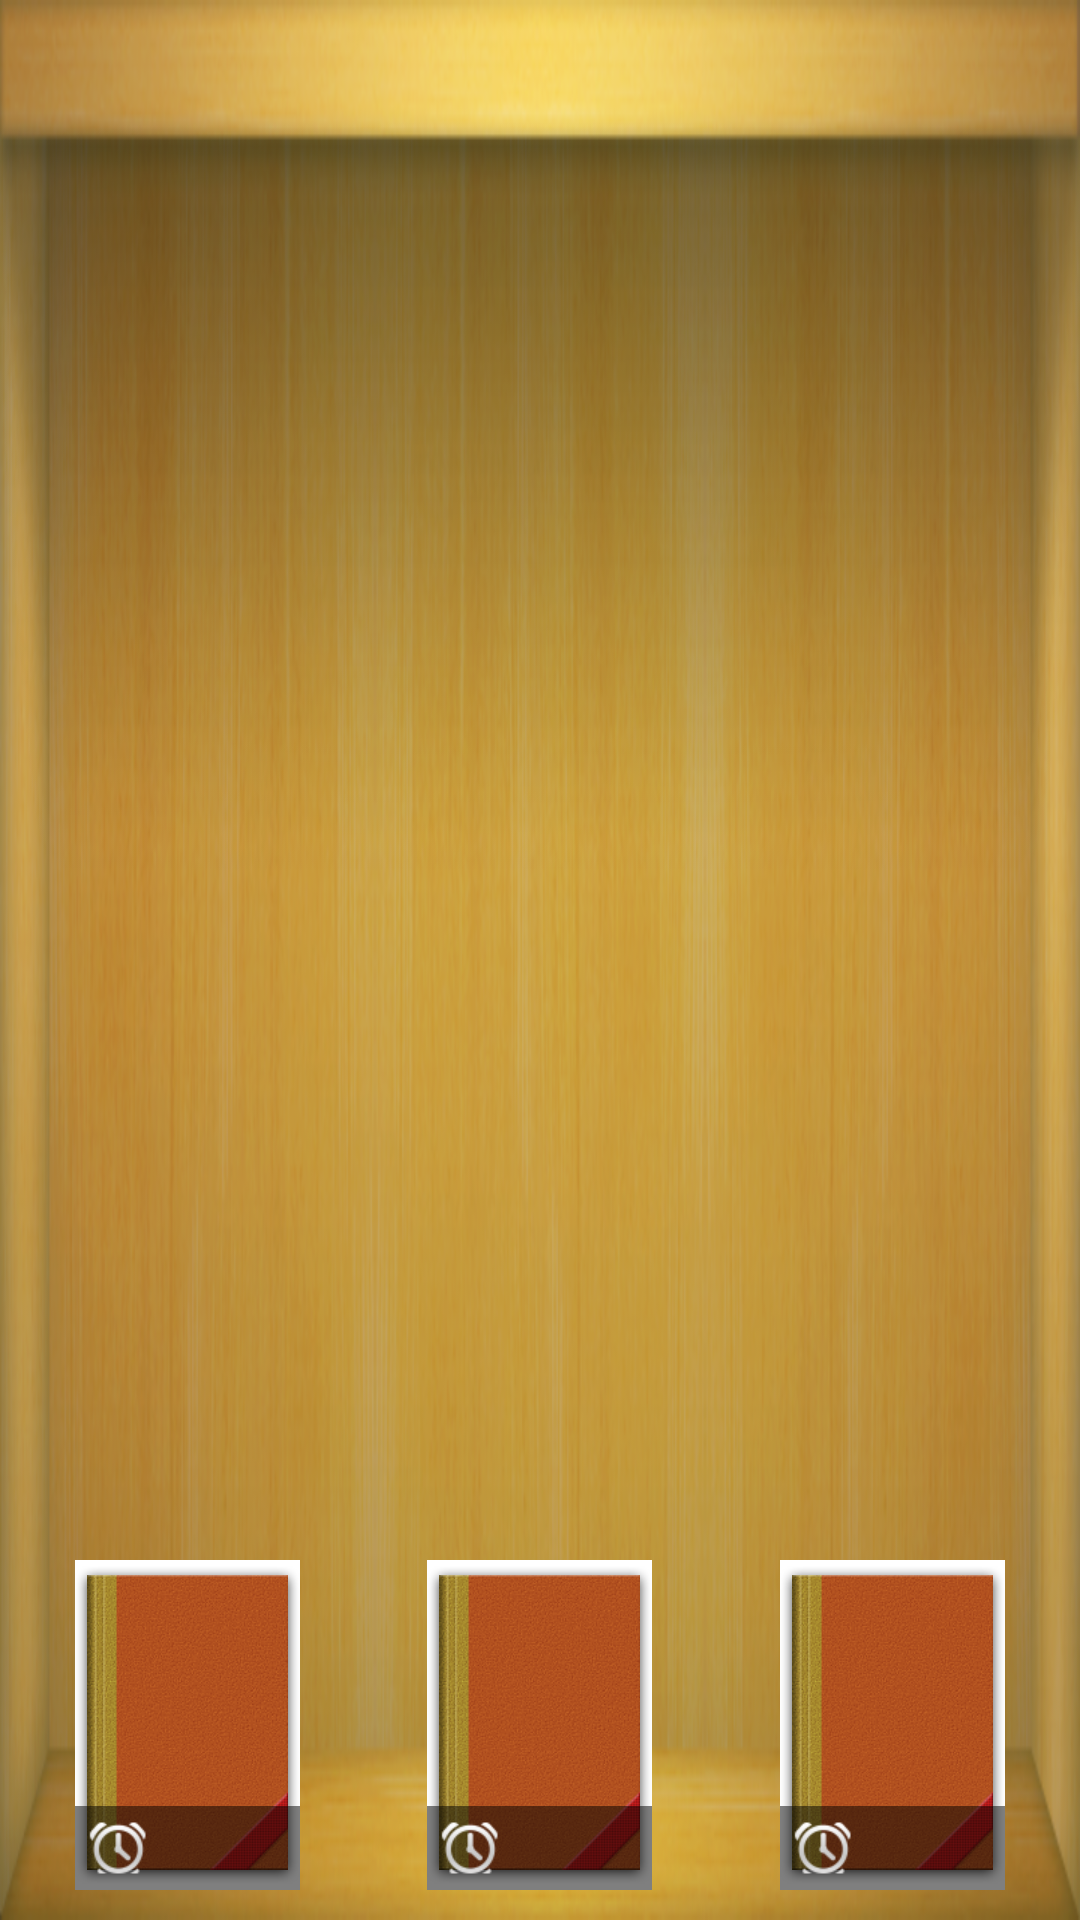

Icons on this 1080x1920 Android screen, each with the point to tap as (x,y):
shuyou time: (117,1848), (469,1848), (822,1848)
